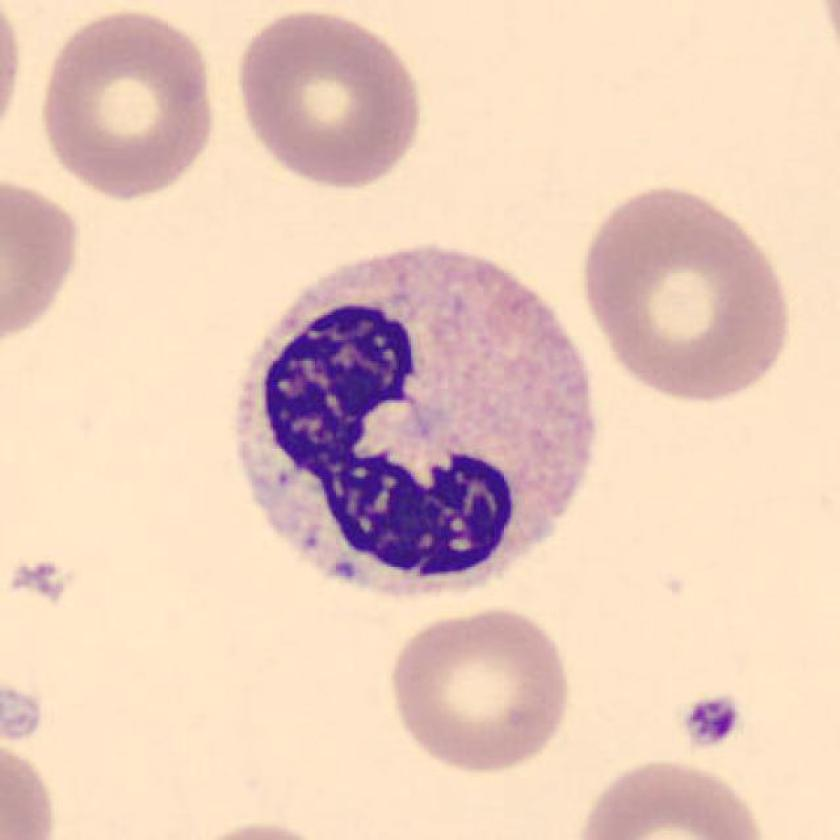neutrophil: (229, 237, 597, 605)
